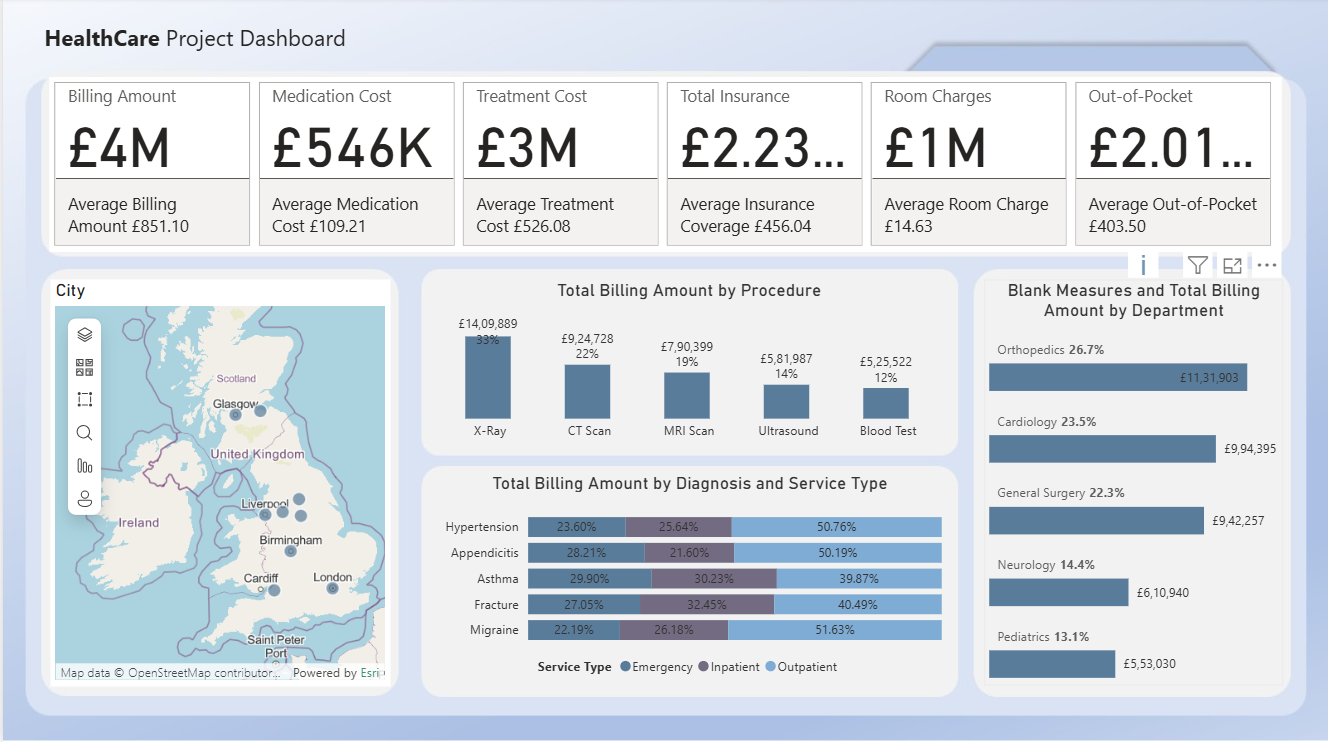

Layout of this report page (visuals, bound fields, positions):
{"tool":"powerbi","page":{"name":"Page 2","canvas":[1280,720],"ordinal":1},"visuals":[{"type":"cardVisual","fields":{"Data":["DAX Calculation.Total Billing Amount","DAX Calculation.Total Medication Cost","DAX Calculation.Total Treatment Cost","DAX Calculation.Total Insurance Coveres","DAX Calculation.Total Room Charges","DAX Calculation.Out-of-Pocket"]},"box":[44.6,77.2,1189.6,168.9],"z":0},{"type":"esriVisual","fields":{"Location":["cities.City"]},"box":[45.5,272.9,327.7,391.9],"z":1000},{"type":"clusteredColumnChart","fields":{"Category":["procedures.Procedure"],"Y":["DAX Calculation.Total Billing Amount"]},"box":[402.6,272.9,519,164.5],"z":2000},{"type":"hundredPercentStackedBarChart","fields":{"Y":["DAX Calculation.Total Billing Amount"],"Category":["diagnoses.Diagnosis"],"Series":["visits.Service Type"]},"box":[414.6,458.8,496.2,206],"z":3000},{"type":"clusteredBarChart","fields":{"Category":["departments.Department"],"Y":["DAX Calculation.Blank Measures","DAX Calculation.Total Billing Amount"]},"box":[947,272.9,288.9,391.9],"z":4000},{"type":"textbox","box":[35,19.3,320.9,39.8],"z":5000}]}

Visuals, with their boxes in screenshot pixels (x1, y1, x2, y2), scaled from the page's 1280x720 canvas onto the 1328x742 screenshot:
cardVisual - DAX Calculation.Total Billing Amount x DAX Calculation.Total Medication Cost: [46,80,1280,254]
esriVisual - cities.City: [47,281,387,685]
clusteredColumnChart - procedures.Procedure x DAX Calculation.Total Billing Amount: [418,281,956,451]
hundredPercentStackedBarChart - DAX Calculation.Total Billing Amount x diagnoses.Diagnosis: [430,473,945,685]
clusteredBarChart - departments.Department x DAX Calculation.Blank Measures: [983,281,1282,685]
textbox: [36,20,369,61]
